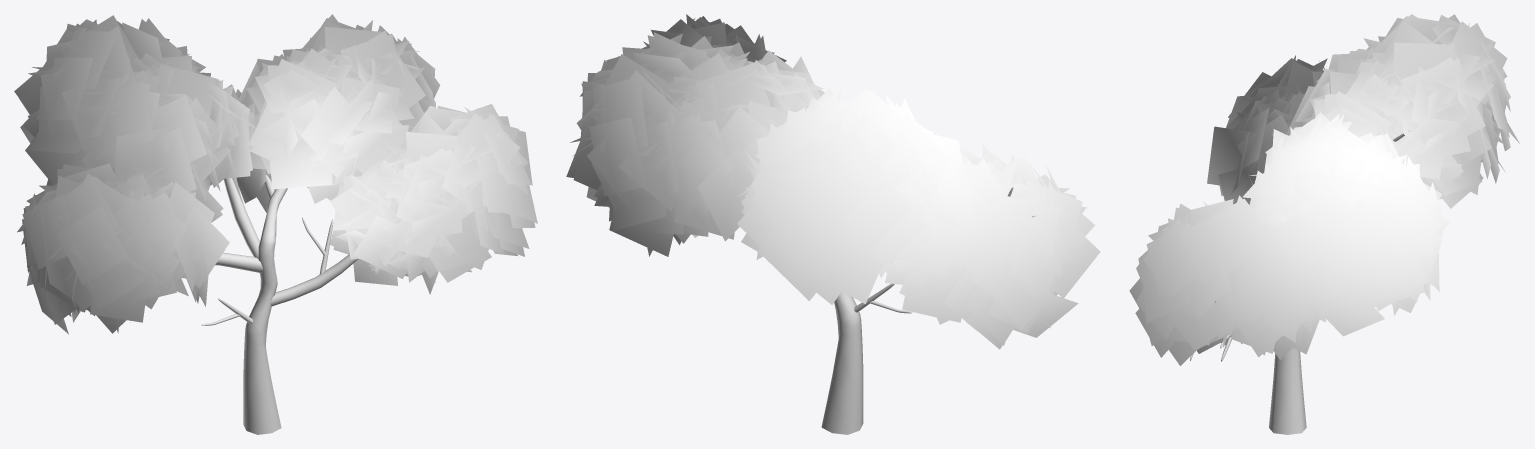
Rendered from MapleTree_3.glb.
3 renders of one model, left to right at view 1: azimuth 30°, elevation 25°; view 2: azimuth 150°, elevation 25°; view 3: azimuth 270°, elevation 25°, orthographic. The views are drawn at different scales.
Bounding box in the file's own units: 8.98 × 6.99 × 6.61.
Materials: 2 (1 with a texture image).
